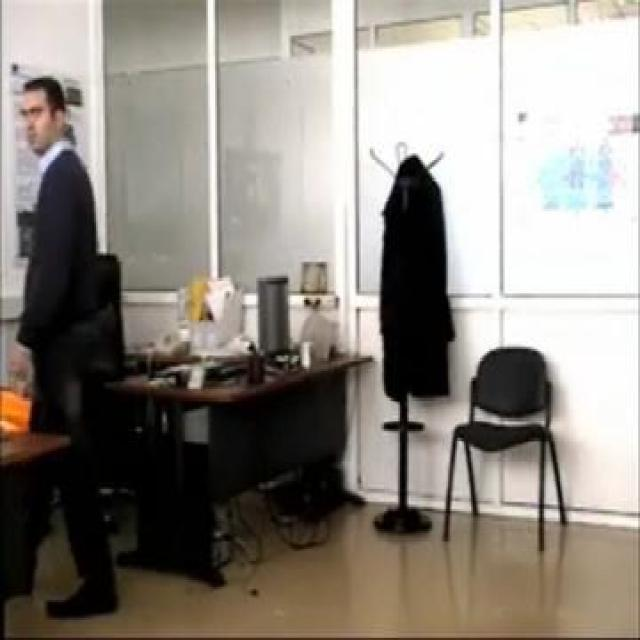other: (0, 376, 31, 442)
